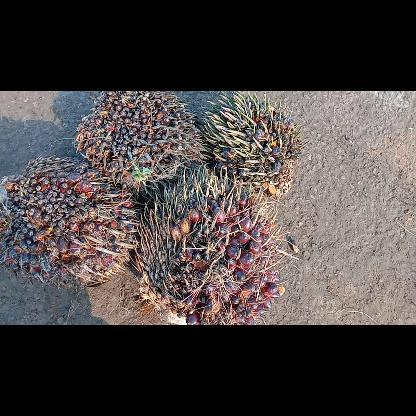TBS abnormal: (0, 152, 143, 291), (74, 90, 212, 198), (197, 91, 312, 201)
TBS masak: (130, 162, 284, 324)
